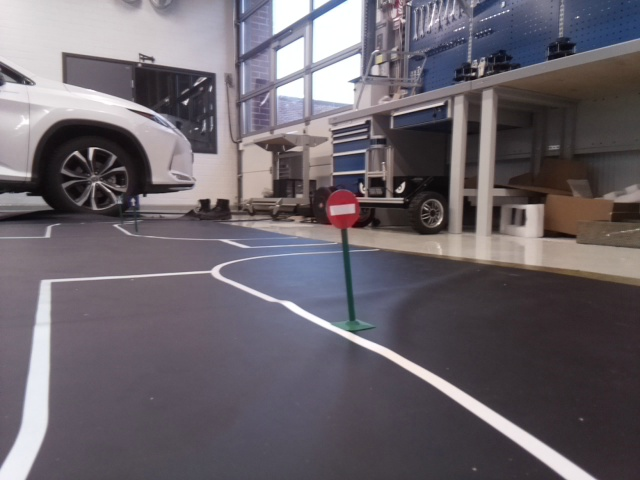NoEntry: (324, 186, 359, 229)
